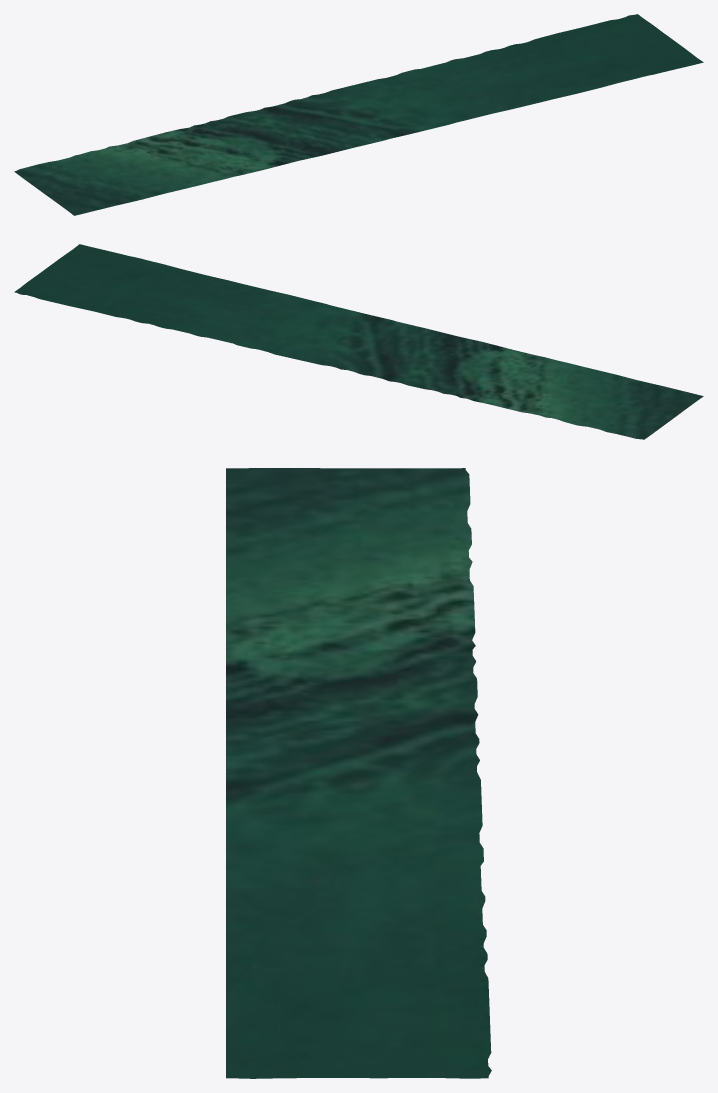
3 views of the same model, one above another, from view 1: azimuth 30°, elevation 25°; view 2: azimuth 150°, elevation 25°; view 3: azimuth 270°, elevation 25° (orthographic). The views are drawn at different scales.
Bounding box in the file's own units: 418 × 0.8572 × 77.02.
Materials: 1 (1 with a texture image).
